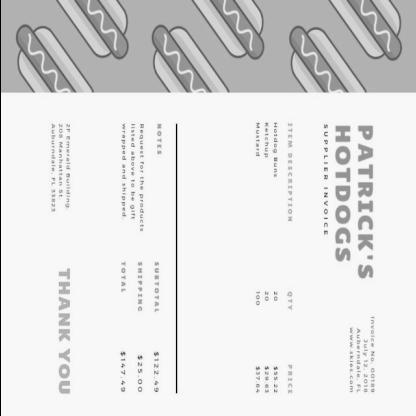Paragraph: (117, 260, 161, 396), (119, 120, 162, 235), (347, 314, 375, 396), (56, 265, 72, 397), (48, 120, 70, 215), (322, 123, 328, 238)
Table: (248, 113, 296, 402)
